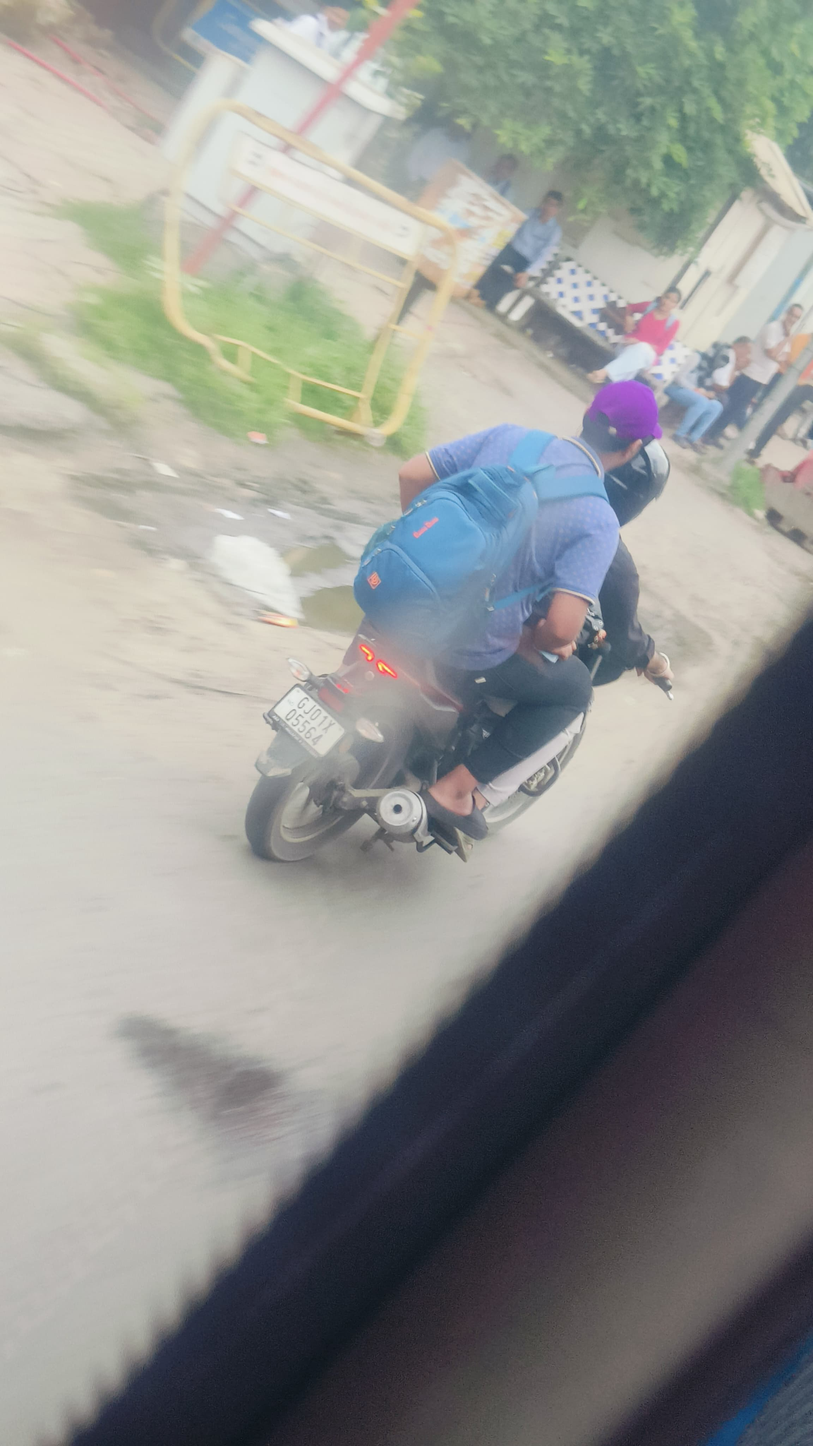BikeWithRider: (223, 369, 693, 894)
NoHelmet: (582, 378, 665, 470)
